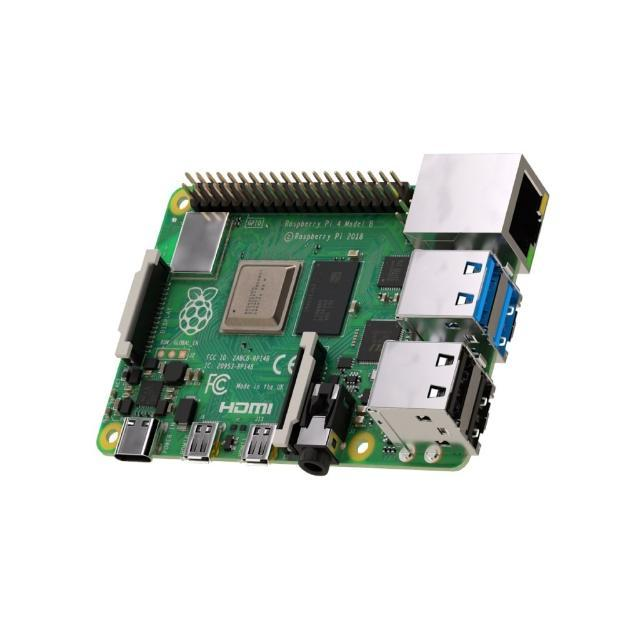Raspberry-Pi-4-B: (97, 155, 549, 476)
